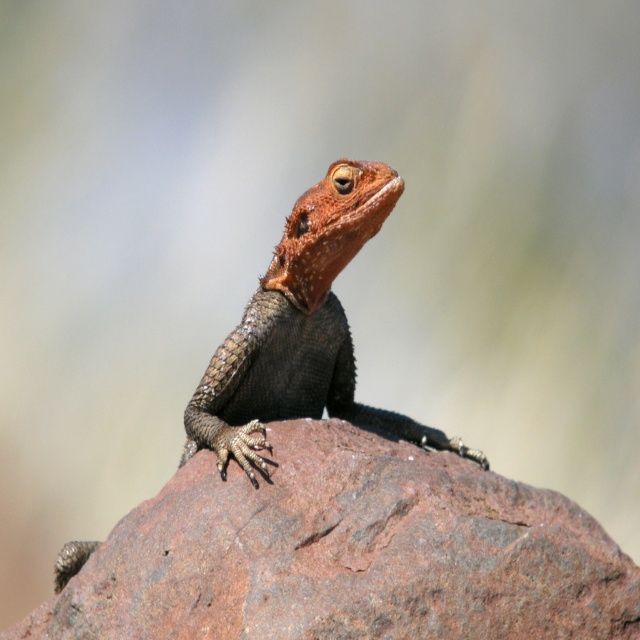Lizard: (162, 150, 404, 514)
